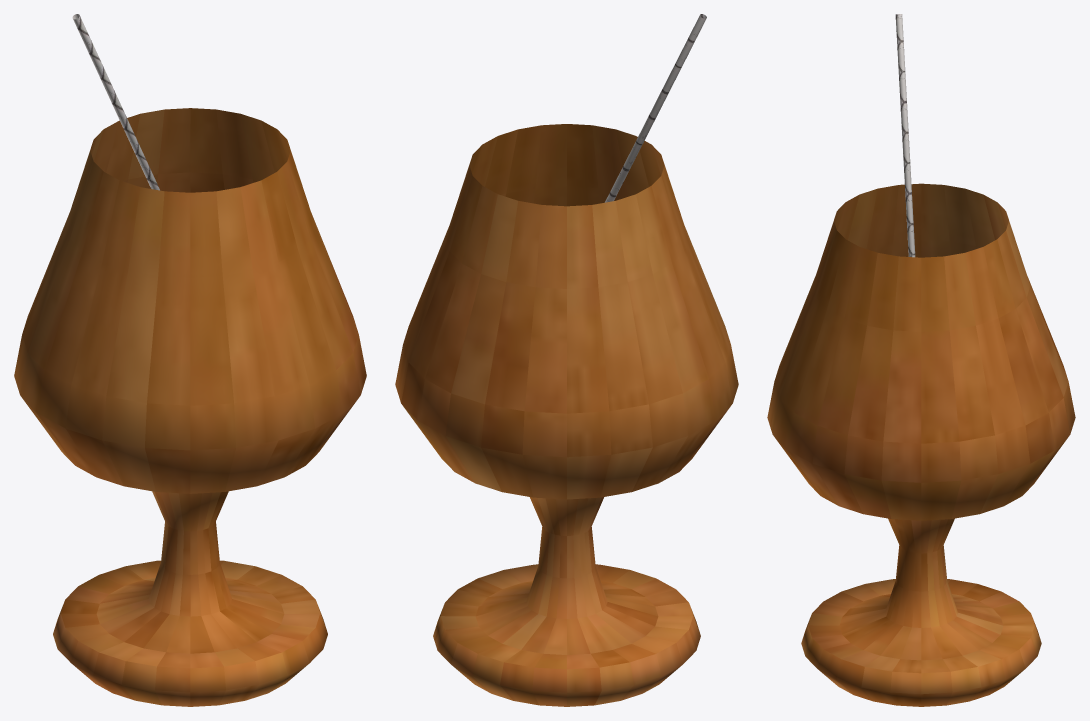
The model's file is juice.dae.
3 views of the same model, side by side, from view 1: azimuth 30°, elevation 25°; view 2: azimuth 150°, elevation 25°; view 3: azimuth 270°, elevation 25° (orthographic). The views are drawn at different scales.
Parts seen in each view (by area): view 1: SketchUp (×3); view 2: SketchUp (×3); view 3: SketchUp (×3).
Part boxes in pixels (bbox=[...]): SketchUp (×3): bbox=[14, 14, 366, 706]; SketchUp (×3): bbox=[395, 14, 738, 706]; SketchUp (×3): bbox=[767, 14, 1075, 706].
Size of the model in its own units: 4.74 by 4.74 by 10.17.
